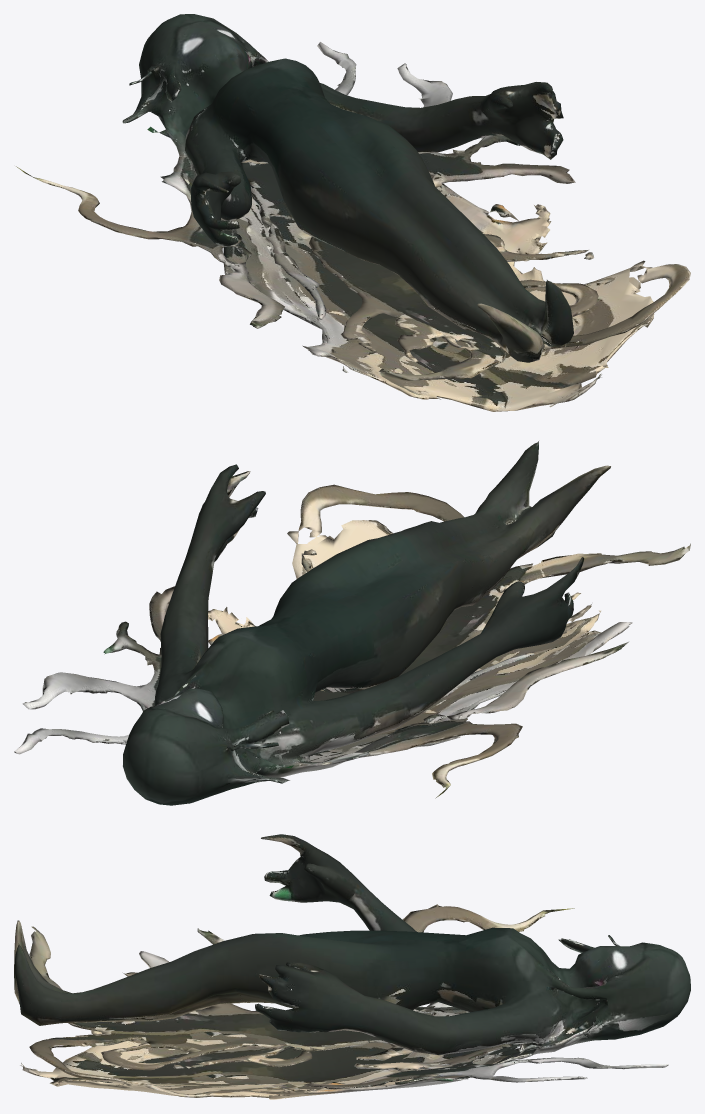
Rendered from Enenra.glb.
3 views of the same model, one above another, from view 1: azimuth 30°, elevation 25°; view 2: azimuth 150°, elevation 25°; view 3: azimuth 270°, elevation 25° (orthographic). The views are drawn at different scales.
Parts seen in each view (by area): view 1: Retopo_enenra.001; view 2: Retopo_enenra.001; view 3: Retopo_enenra.001.
Boxes of the visible parts, x1,y1,x2,y2 form: Retopo_enenra.001: (16, 14, 690, 411); Retopo_enenra.001: (14, 441, 690, 805); Retopo_enenra.001: (14, 834, 690, 1099).
Bounding box in the file's own units: 1.14 × 0.5248 × 1.82.
1 material, 1 textured.
